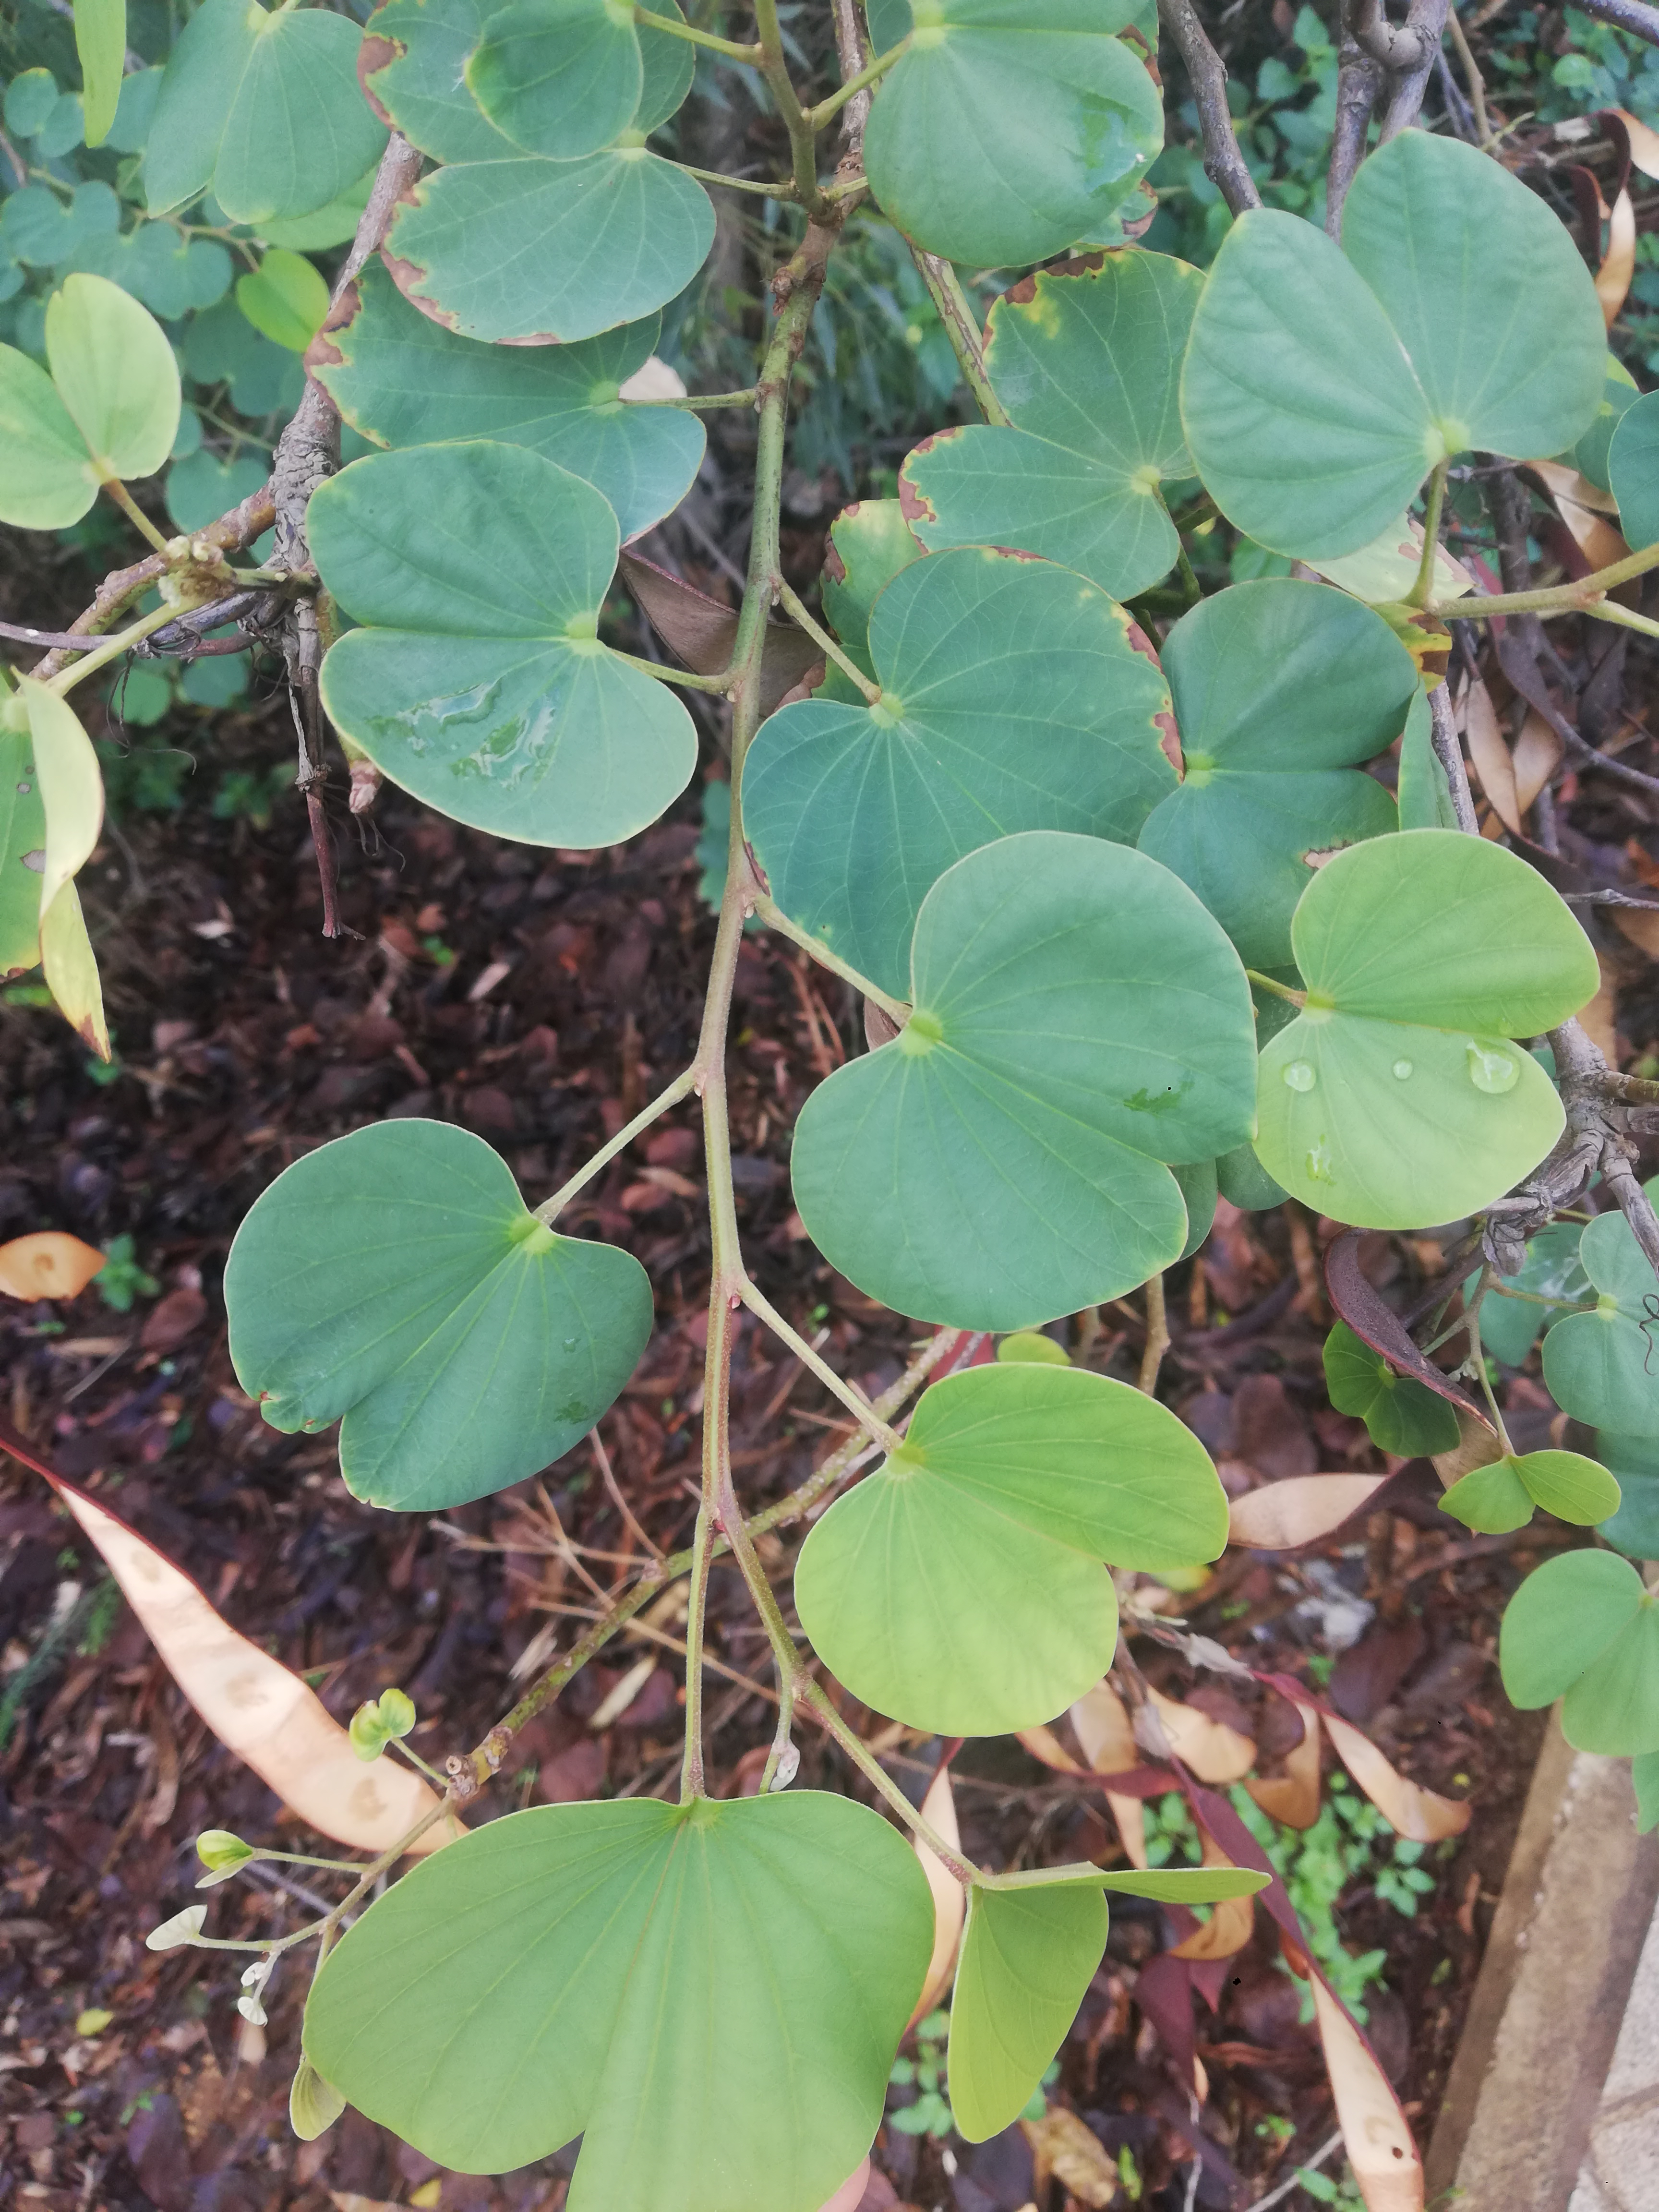healthy: (775, 761, 1251, 1360), (148, 1085, 660, 1555), (1188, 73, 1614, 587), (756, 1336, 1274, 1754), (1239, 791, 1601, 1277), (1436, 1494, 1659, 1778), (0, 235, 176, 563)
nothealthy: (737, 528, 1208, 1028), (890, 190, 1272, 615), (314, 12, 734, 338)
